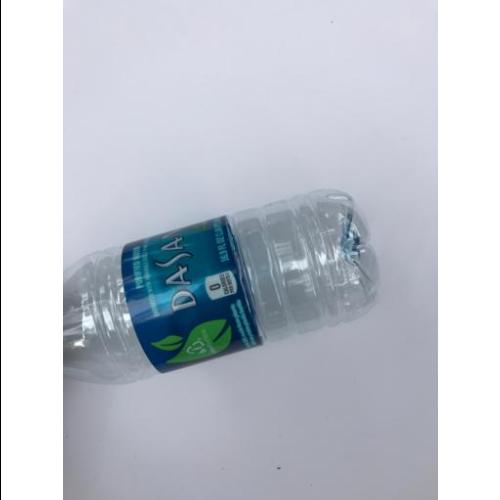plastic: (63, 191, 380, 383)
